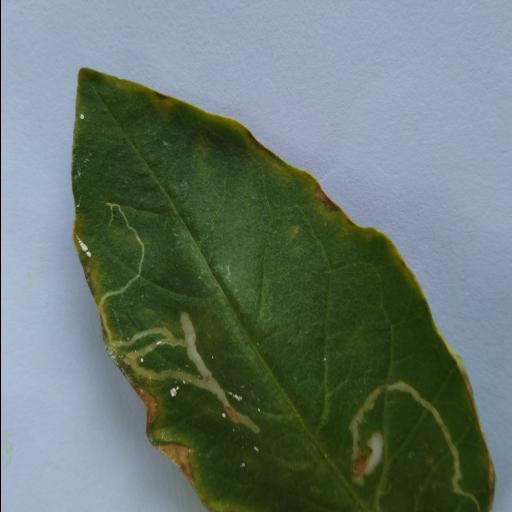disease_tomato: (72, 65, 497, 512)
